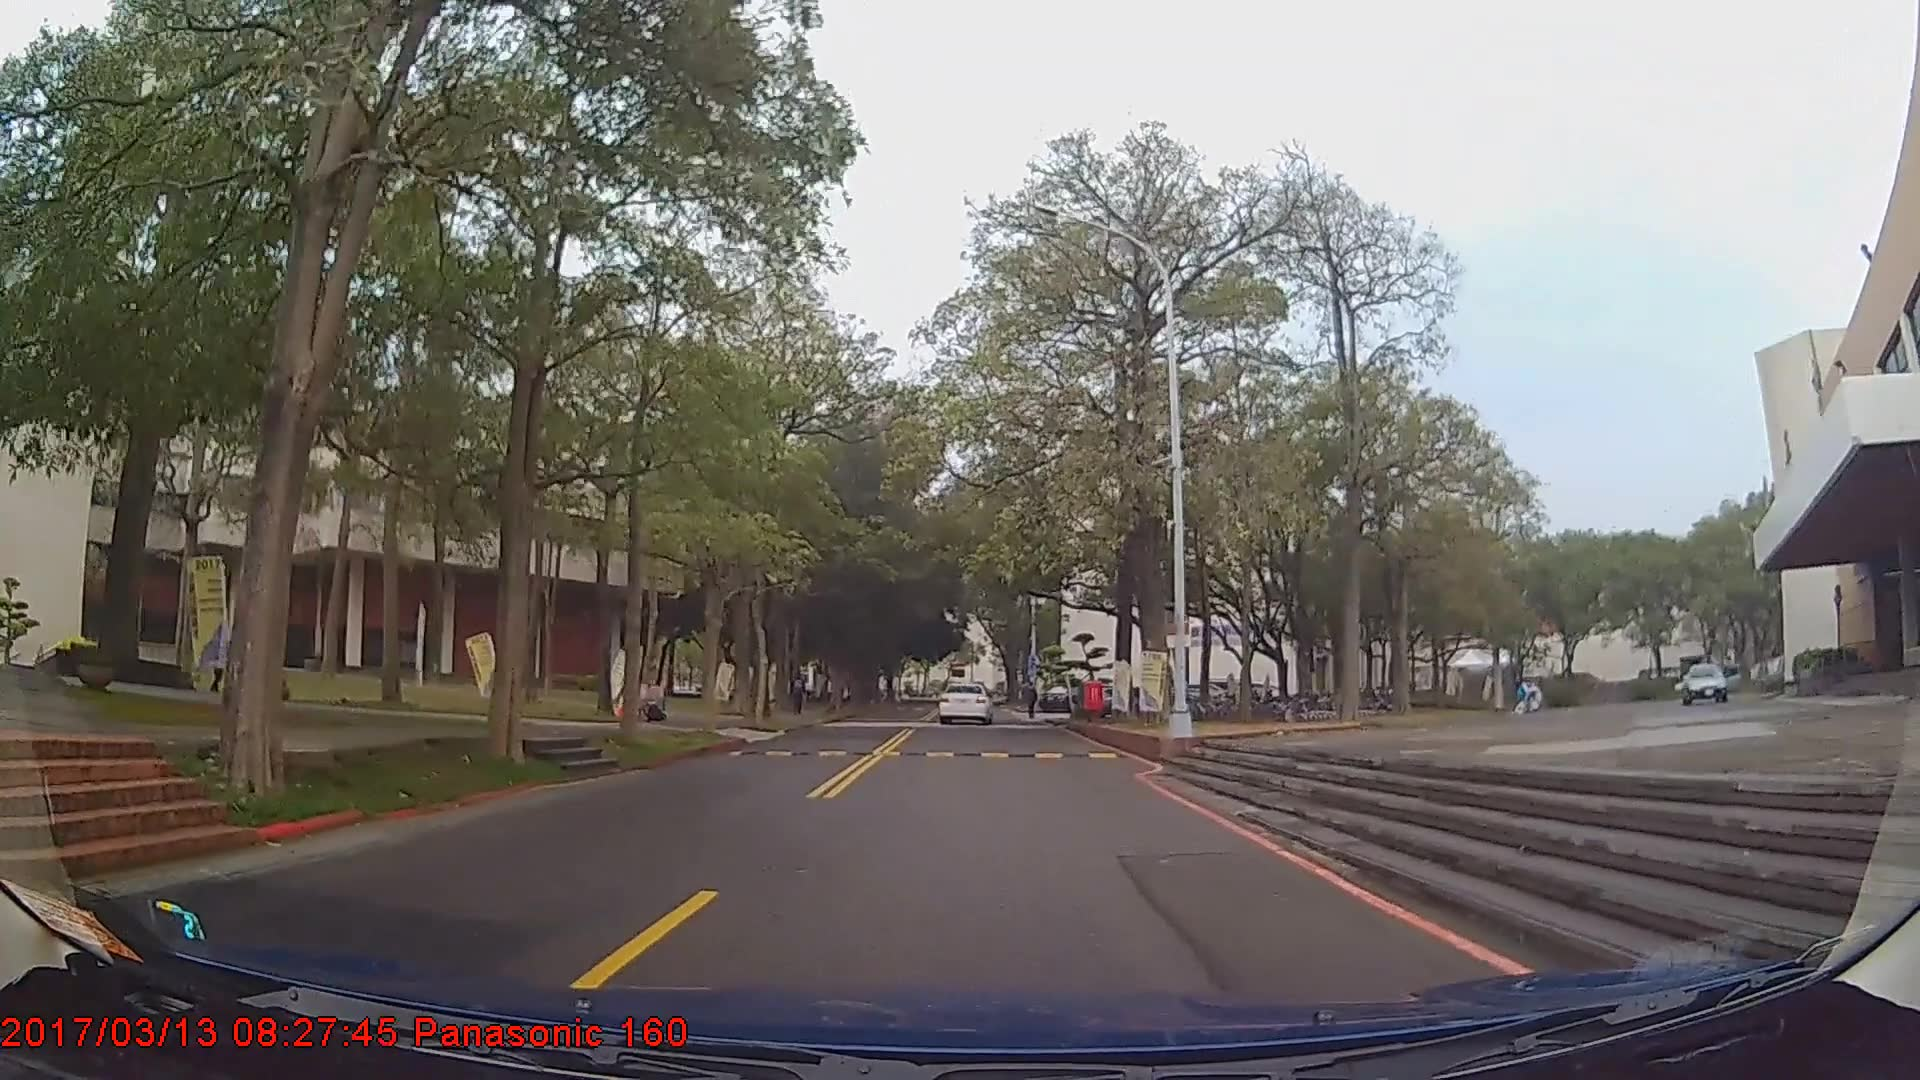vehicle: (1677, 655, 1745, 702), (938, 680, 993, 725)
